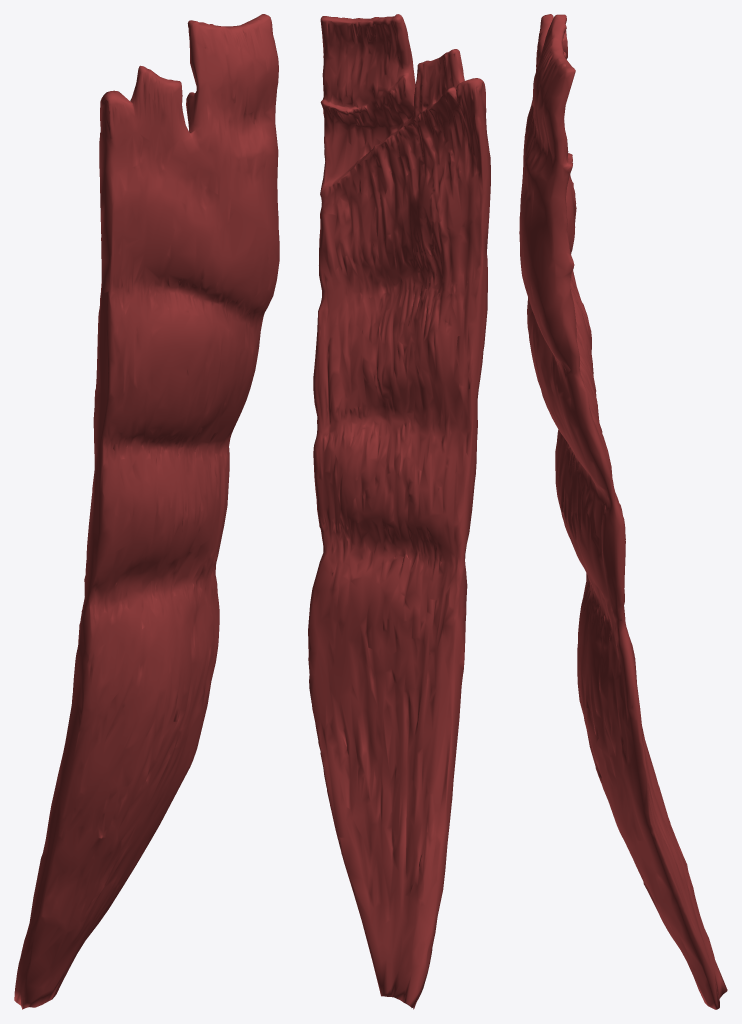
The model's file is rectus-abdominis-muscle-l.glb.
3 views of the same model, side by side, from view 1: azimuth 30°, elevation 25°; view 2: azimuth 150°, elevation 25°; view 3: azimuth 270°, elevation 25° (orthographic). The views are drawn at different scales.
Visible parts, largest first — view 1: Rectus abdominis muscle.l; view 2: Rectus abdominis muscle.l; view 3: Rectus abdominis muscle.l.
Boxes of the visible parts, box(x1,y1,x2,y2) form: Rectus abdominis muscle.l: box(14, 14, 279, 1009); Rectus abdominis muscle.l: box(308, 14, 490, 1009); Rectus abdominis muscle.l: box(519, 14, 727, 1009).
Bounding box in the file's own units: 0.0786 × 0.4085 × 0.0746.
